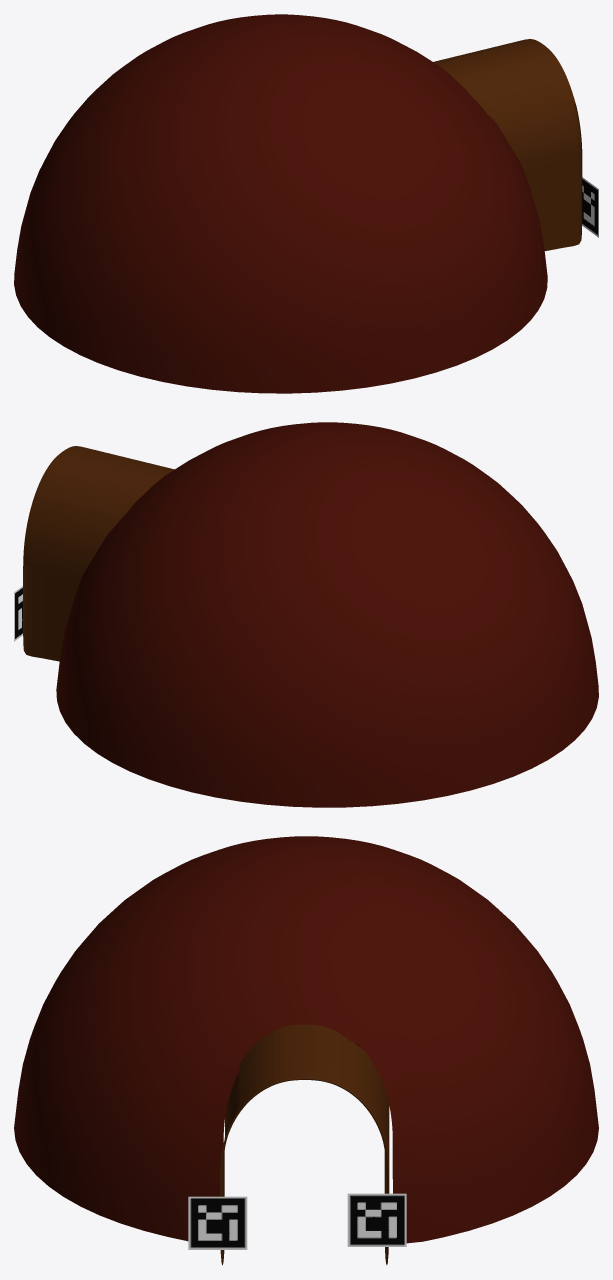
Rendered from dome.obj.
3 views of the same model, one above another, from view 1: azimuth 30°, elevation 25°; view 2: azimuth 150°, elevation 25°; view 3: azimuth 270°, elevation 25° (orthographic). The views are drawn at different scales.
Parts seen in each view (by area): view 1: Sphere, Cube.001, Plane; view 2: Sphere, Cube.001; view 3: Sphere, Cube.001, Plane, Plane.001.
Part boxes in pixels (bbox=[...]): Sphere: bbox=[14, 14, 547, 393]; Cube.001: bbox=[433, 39, 582, 250]; Plane: bbox=[582, 177, 598, 237]; Sphere: bbox=[56, 422, 598, 807]; Cube.001: bbox=[23, 446, 174, 661]; Sphere: bbox=[14, 836, 598, 1243]; Cube.001: bbox=[220, 1024, 389, 1265]; Plane: bbox=[188, 1196, 247, 1249]; Plane.001: bbox=[347, 1193, 406, 1246].
Bounding box in the file's own units: 8.52 × 3.99 × 7.95.
